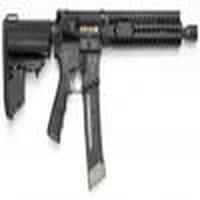gun: (3, 13, 200, 149)
